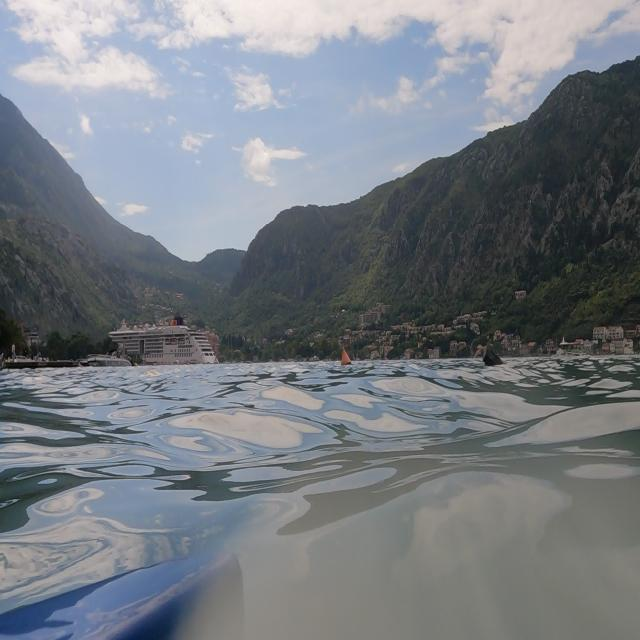boat: (106, 311, 221, 368)
buoy: (479, 343, 514, 380), (336, 339, 355, 369)
